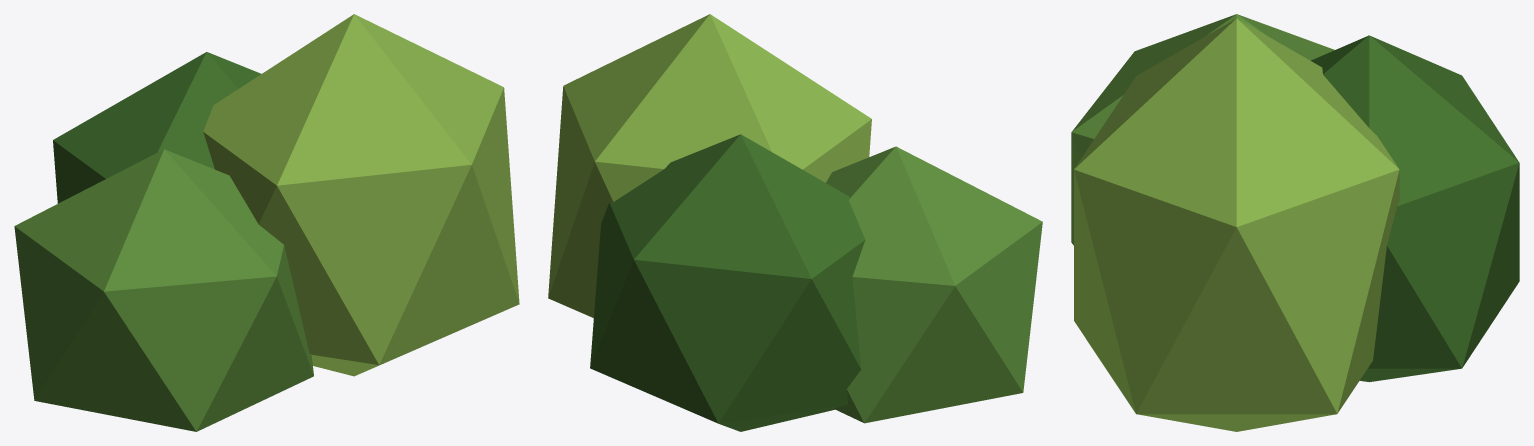
File: bush.glb
3 views of the same model, side by side, from view 1: azimuth 30°, elevation 25°; view 2: azimuth 150°, elevation 25°; view 3: azimuth 270°, elevation 25° (orthographic). The views are drawn at different scales.
Visible parts, largest first — view 1: bush; view 2: bush; view 3: bush.
Boxes of the visible parts, x1,y1,x2,y2 form: bush: [14, 14, 519, 431]; bush: [548, 14, 1042, 431]; bush: [1071, 14, 1519, 431].
Size of the model in its own units: 0.2102 by 0.155 by 0.1522.
